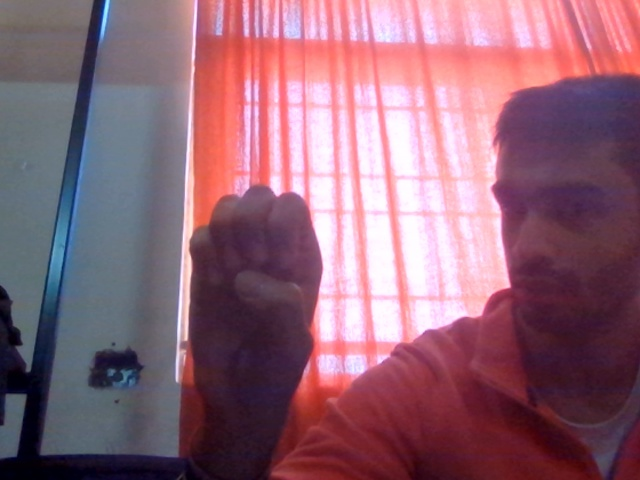E: (162, 160, 350, 459)
